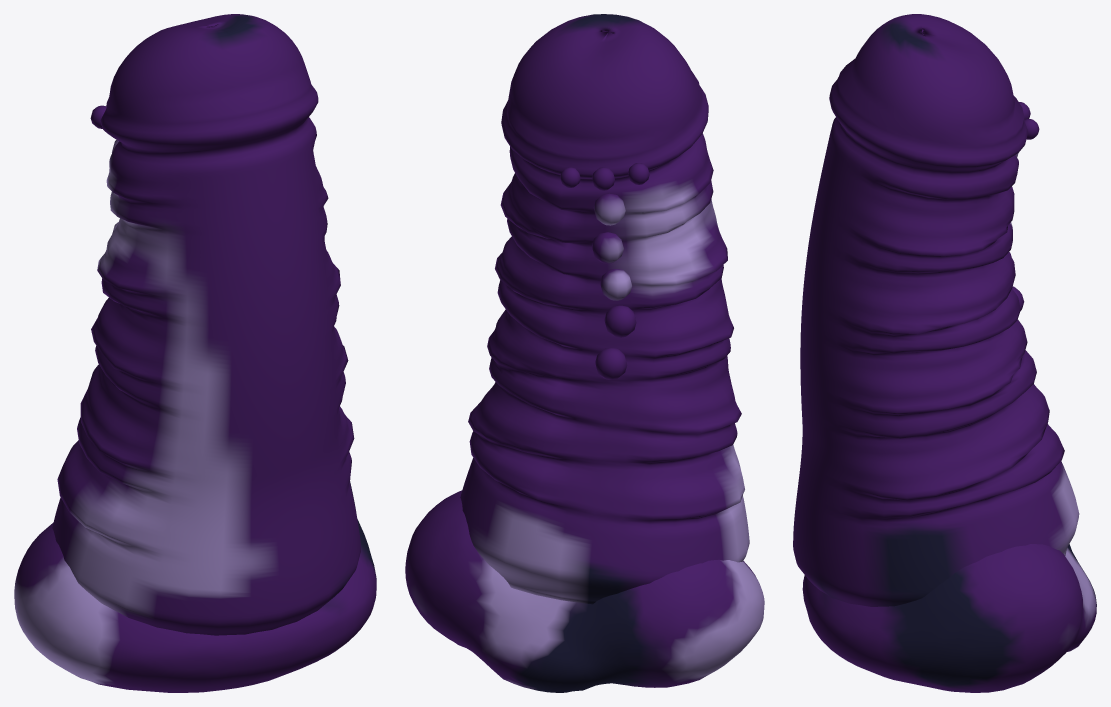
Rendered from rook_purple.glb.
3 renders of one model, left to right at view 1: azimuth 30°, elevation 25°; view 2: azimuth 150°, elevation 25°; view 3: azimuth 270°, elevation 25°, orthographic. The views are drawn at different scales.
Visible parts, largest first — view 1: rook; view 2: rook; view 3: rook.
Part boxes in pixels (x1,y1,x2,y2): rook: (14, 14, 376, 692); rook: (405, 14, 764, 692); rook: (793, 14, 1096, 692).
Size of the model in its own units: 0.543 by 1 by 0.4506.
